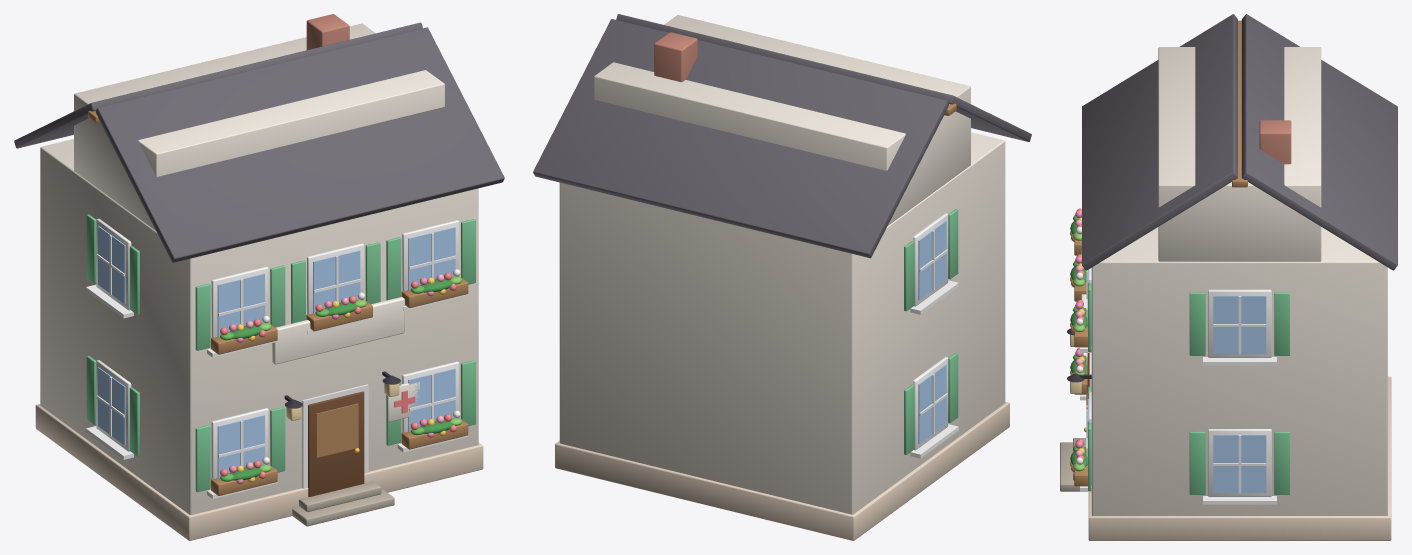
File: shop_gouhbus.glb
The picture shows the model from 3 angles, left to right: view 1: azimuth 30°, elevation 25°; view 2: azimuth 150°, elevation 25°; view 3: azimuth 270°, elevation 25°; orthographic projection. The views are drawn at different scales.
Visible parts, largest first — view 1: shop_gouhbus; view 2: shop_gouhbus; view 3: shop_gouhbus.
Part boxes in pixels (x1=…): shop_gouhbus: x1=14, y1=14, x2=504, y2=540; shop_gouhbus: x1=533, y1=14, x2=1031, y2=540; shop_gouhbus: x1=1060, y1=14, x2=1397, y2=540.
Bounding box in the file's own units: 7.2 × 8.05 × 6.39.
